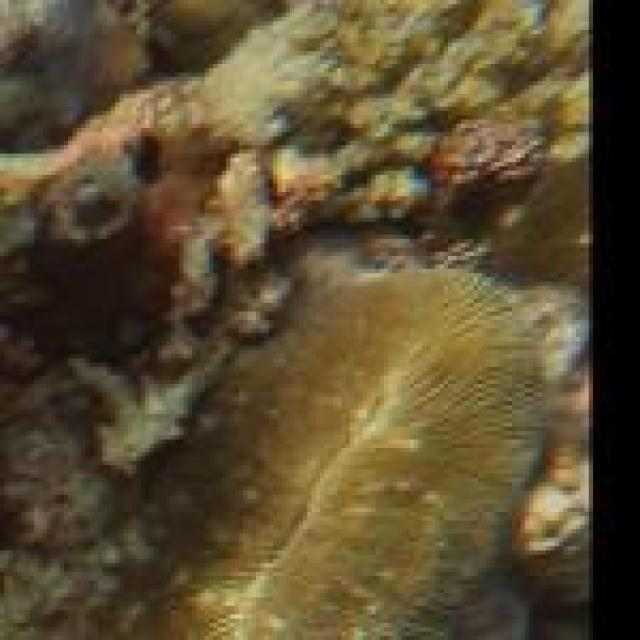Healthy Coral: (123, 239, 556, 639)
